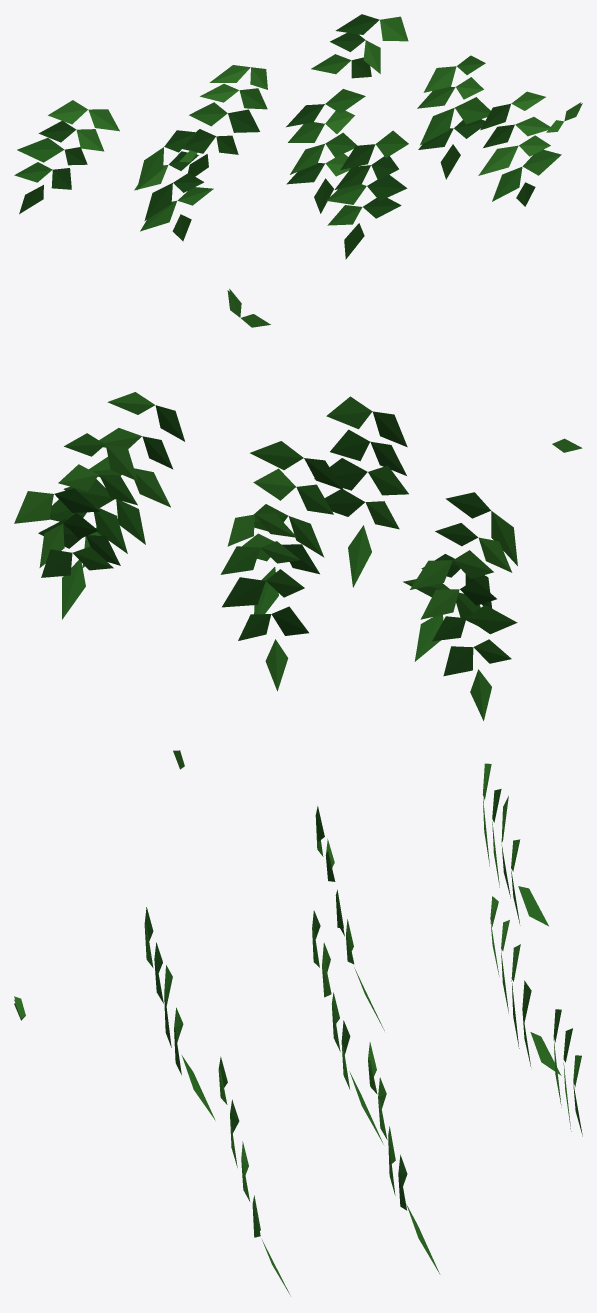
3 renders of one model, top to bottom at view 1: azimuth 30°, elevation 25°; view 2: azimuth 150°, elevation 25°; view 3: azimuth 270°, elevation 25°, orthographic. The views are drawn at different scales.
Parts seen in each view (by area): view 1: r14c2_l11; view 2: r14c2_l11; view 3: r14c2_l11.
Boxes of the visible parts, <box> form: r14c2_l11: <box>14,14,582,259</box>; r14c2_l11: <box>14,288,582,720</box>; r14c2_l11: <box>14,750,582,1295</box>.
Size of the model in its own units: 1.59 by 0.5873 by 1.09.
